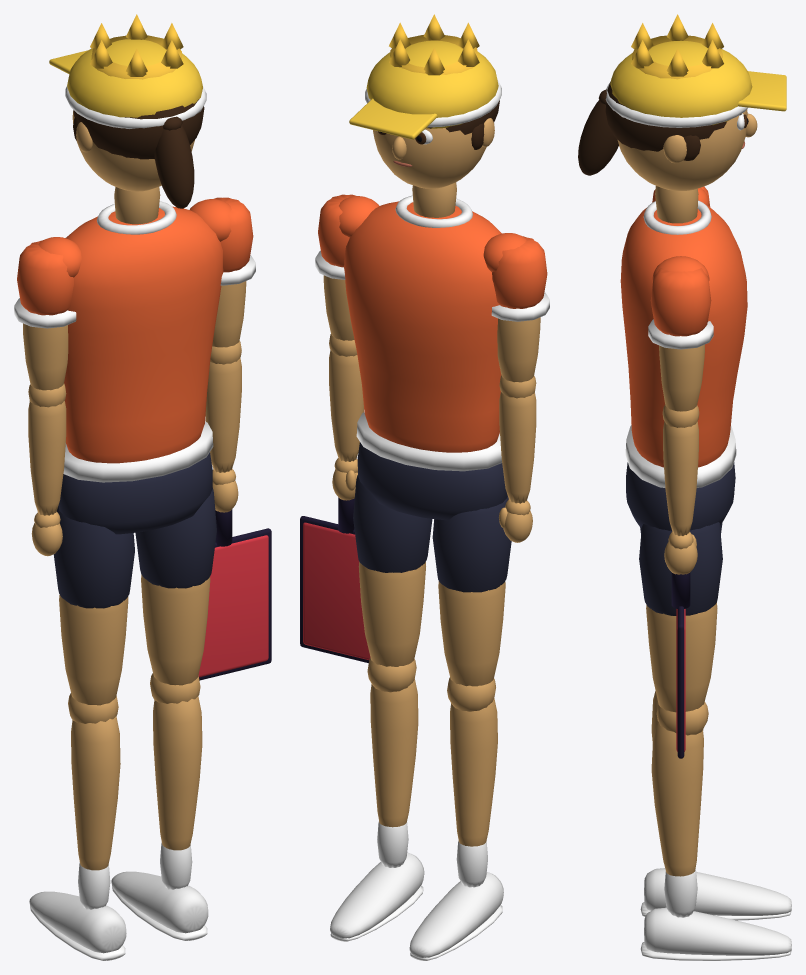
The model's file is player.glb.
3 renders of one model, left to right at view 1: azimuth 30°, elevation 25°; view 2: azimuth 150°, elevation 25°; view 3: azimuth 270°, elevation 25°, orthographic. The views are drawn at different scales.
Visible parts, largest first — view 1: ol_torso, ol_paddle_face, ol_shorts, ol_cap, ol_calf_L, ol_calf_R, ol_shortleg_L, ol_thigh_L, ol_thigh_R, ol_shortleg_R, ol_forearm_L, ol_shoe_R (+28 smaller); view 2: ol_torso, ol_paddle_face, ol_shorts, ol_cap, ol_calf_R, ol_calf_L, ol_shortleg_L, ol_thigh_L, ol_thigh_R, ol_shortleg_R, ol_head, ol_shoe_R (+25 smaller); view 3: ol_torso, ol_cap, ol_calf_R, ol_shoe_R, ol_thigh_R, ol_shortleg_R, ol_head, ol_shoe_L, ol_shorts, ol_sleeve_R, ol_forearm_R, ol_upperarm_R (+19 smaller).
Boxes of the visible parts, bbox=[...] form: ol_torso: bbox=[64, 206, 223, 463]; ol_paddle_face: bbox=[198, 535, 268, 677]; ol_shorts: bbox=[58, 452, 212, 534]; ol_cap: bbox=[67, 39, 202, 117]; ol_calf_L: bbox=[71, 716, 120, 870]; ol_calf_R: bbox=[153, 696, 202, 850]; ol_shortleg_L: bbox=[53, 506, 134, 608]; ol_thigh_L: bbox=[59, 595, 128, 705]; ol_thigh_R: bbox=[141, 574, 210, 685]; ol_shortleg_R: bbox=[135, 488, 216, 588]; ol_forearm_L: bbox=[28, 401, 66, 515]; ol_shoe_R: bbox=[111, 871, 208, 933]; ol_torso: bbox=[344, 201, 501, 452]; ol_paddle_face: bbox=[303, 522, 370, 659]; ol_shorts: bbox=[357, 442, 507, 520]; ol_cap: bbox=[366, 40, 498, 128]; ol_calf_R: bbox=[370, 678, 418, 827]; ol_calf_L: bbox=[450, 698, 497, 846]; ol_shortleg_L: bbox=[432, 495, 511, 592]; ol_thigh_L: bbox=[438, 581, 505, 686]; ol_thigh_R: bbox=[358, 562, 425, 666]; ol_shortleg_R: bbox=[353, 475, 432, 572]; ol_head: bbox=[373, 128, 486, 188]; ol_shoe_R: bbox=[330, 852, 424, 938]; ol_torso: bbox=[620, 205, 747, 467]; ol_cap: bbox=[610, 40, 752, 125]; ol_calf_R: bbox=[651, 721, 703, 876]; ol_shoe_R: bbox=[644, 907, 791, 955]; ol_thigh_R: bbox=[646, 602, 717, 712]; ol_shortleg_R: bbox=[639, 522, 722, 615]; ol_head: bbox=[617, 109, 747, 190]; ol_shoe_L: bbox=[644, 868, 791, 915]; ol_shorts: bbox=[626, 462, 735, 530]; ol_sleeve_R: bbox=[650, 268, 711, 336]; ol_forearm_R: bbox=[663, 421, 698, 535]; ol_upperarm_R: bbox=[659, 334, 704, 411].
Bounding box in the file's own units: 1.73 × 5.93 × 1.27.
